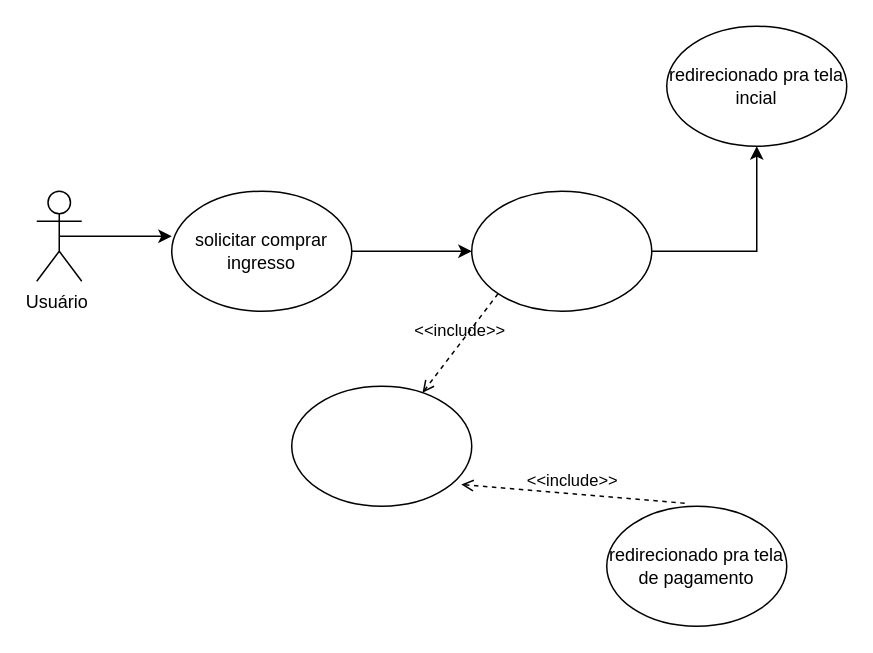
Image size: 873x653. Some labels were removed from this diagram. Here are the shapes that lost their labels. From the top down, the centre of each, then its label:
At (561,250): "Checar disponibilidade ingressos".
At (381,445): "Efetuar Login".
